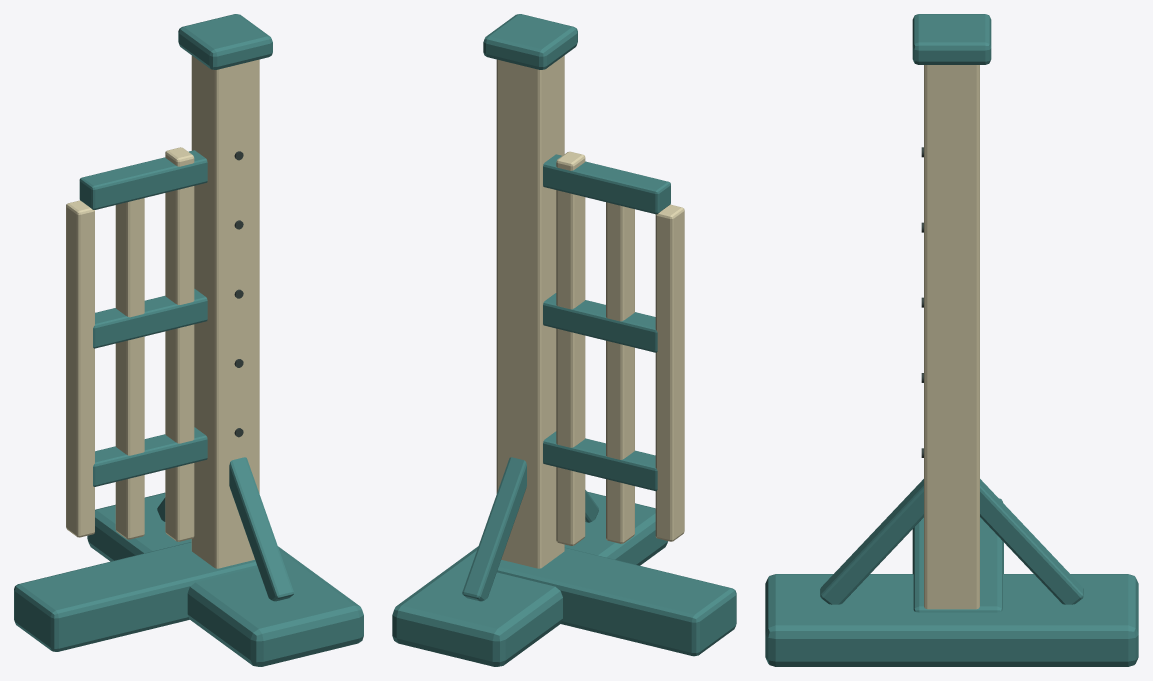
Rendered from jump-standard.glb.
The picture shows the model from 3 angles, left to right: view 1: azimuth 30°, elevation 25°; view 2: azimuth 150°, elevation 25°; view 3: azimuth 270°, elevation 25°; orthographic projection. The views are drawn at different scales.
Parts seen in each view (by area): view 1: Jump_Standard_L; view 2: Jump_Standard_L; view 3: Jump_Standard_L.
Boxes of the visible parts, x1,y1,x2,y2 form: Jump_Standard_L: (14,14,363,666); Jump_Standard_L: (392,14,736,666); Jump_Standard_L: (765,14,1138,666).
Size of the model in its own units: 0.745 by 1.63 by 0.9.
